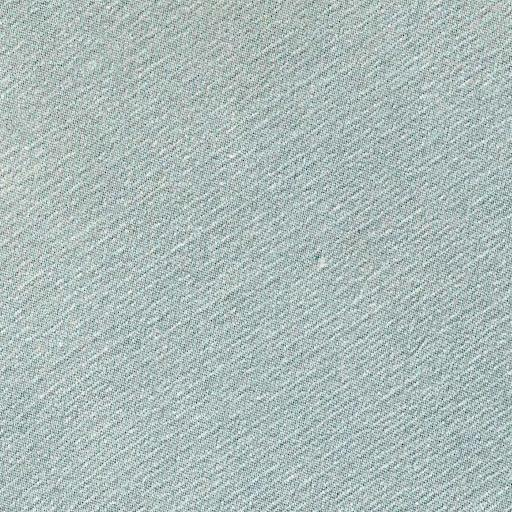knot: (301, 250, 348, 282)
